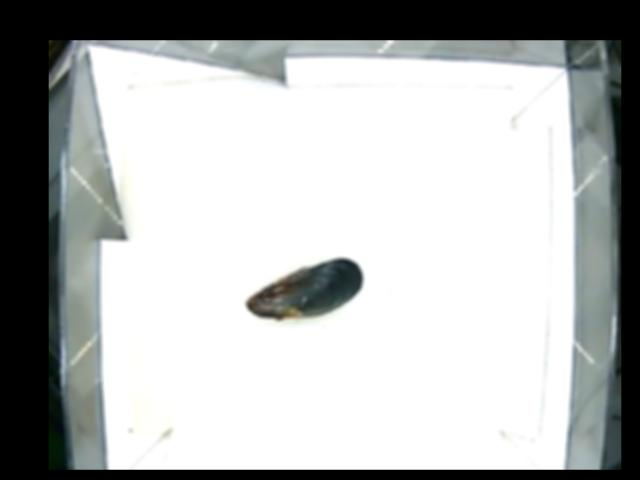Shell: (245, 258, 363, 322)
